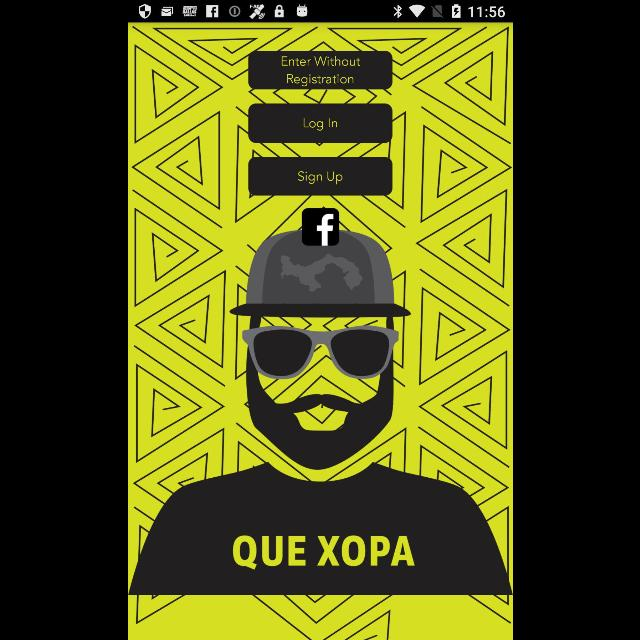backgroundimage: (128, 22, 512, 640)
icon: (301, 208, 339, 246)
textbutton: (248, 157, 392, 196), (248, 104, 392, 142), (248, 51, 392, 89)
uppertaskbar: (128, 1, 512, 23)
